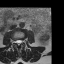CCS_normal: (17, 38, 20, 47)
LFS_normal: (22, 37, 24, 44)
LLS_normal: (20, 37, 22, 46)
RFS_normal: (13, 38, 15, 44)
RLS_normal: (15, 38, 17, 45)
